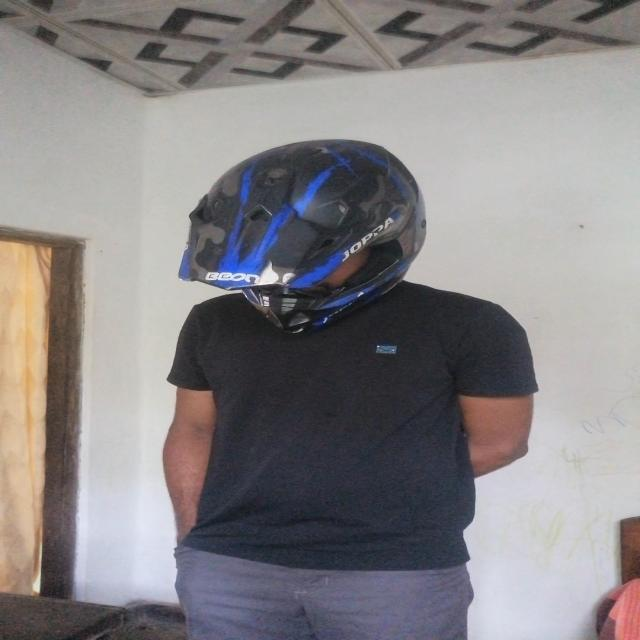Helmet_Wearer: (158, 124, 460, 332)
Person: (150, 150, 533, 640)
